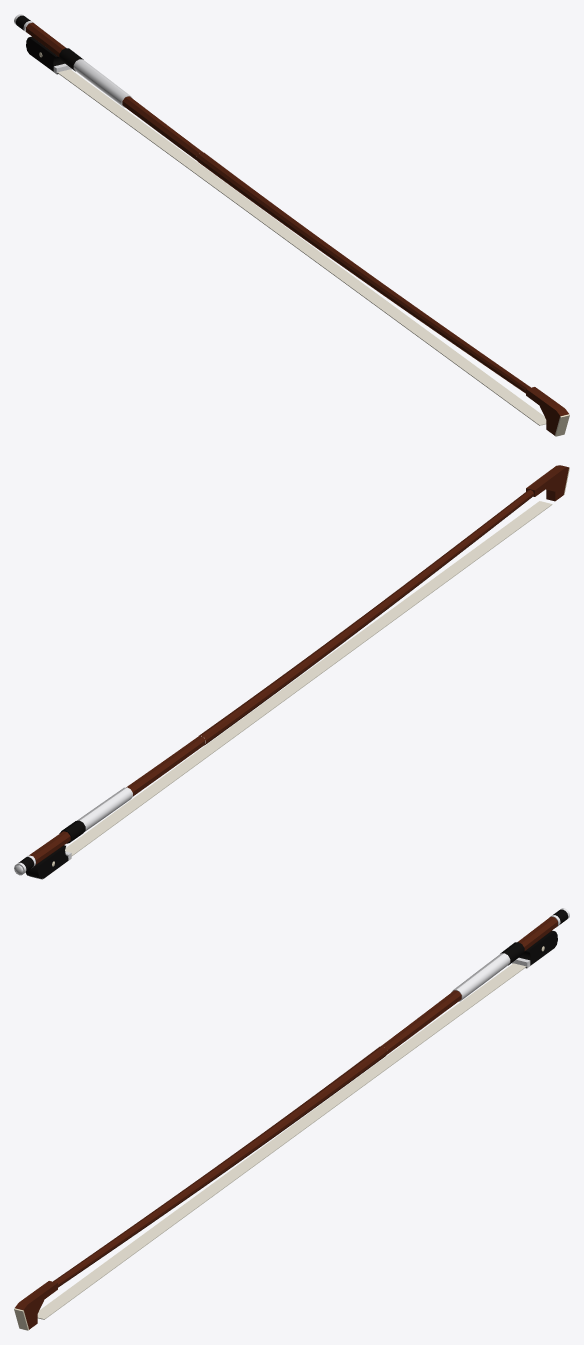
File: viola_bow.glb
3 renders of one model, top to bottom at view 1: azimuth 30°, elevation 25°; view 2: azimuth 150°, elevation 25°; view 3: azimuth 330°, elevation 25°, orthographic.
Parts seen in each view (by area): view 1: viola_bow_hair, viola_bow_pernambuco, viola_bow_silver, viola_bow_ebony; view 2: viola_bow_hair, viola_bow_pernambuco, viola_bow_ebony, viola_bow_silver; view 3: viola_bow_hair, viola_bow_pernambuco, viola_bow_silver, viola_bow_ebony.
Boxes of the visible parts, box(x1,y1,x2,y2) form: viola_bow_hair: box(57, 69, 546, 425); viola_bow_pernambuco: box(26, 22, 568, 435); viola_bow_silver: box(14, 14, 132, 107); viola_bow_ebony: box(15, 15, 83, 74); viola_bow_hair: box(65, 501, 552, 856); viola_bow_pernambuco: box(29, 465, 568, 864); viola_bow_ebony: box(18, 820, 85, 878); viola_bow_silver: box(14, 787, 132, 879); viola_bow_hair: box(37, 963, 526, 1319); viola_bow_pernambuco: box(15, 916, 557, 1329); viola_bow_silver: box(451, 908, 569, 1001); viola_bow_ebony: box(500, 909, 568, 968).
Bounding box in the file's own units: 0.0122 × 0.0212 × 0.7778.
